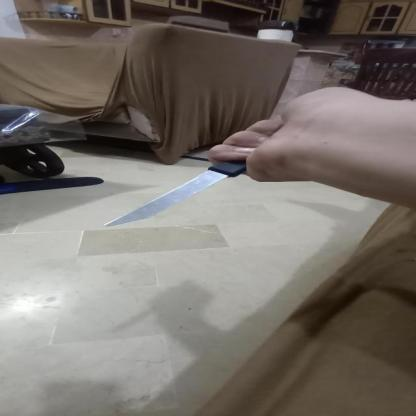Knife: (208, 87, 416, 208), (105, 161, 247, 226)
